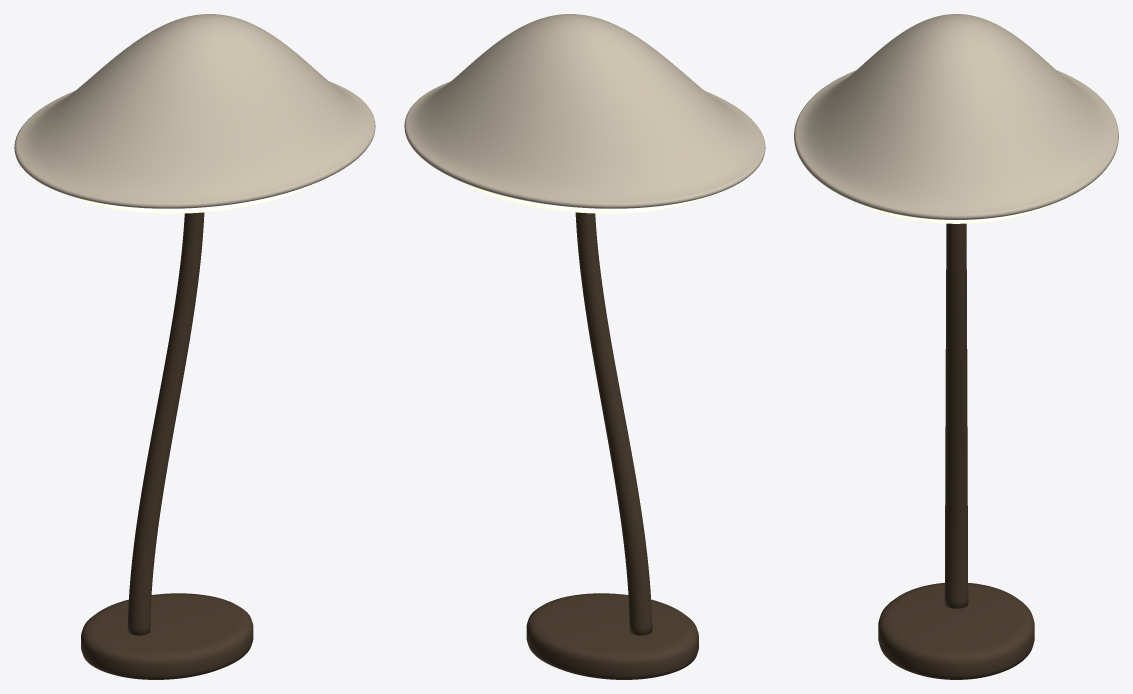
3 renders of one model, left to right at view 1: azimuth 30°, elevation 25°; view 2: azimuth 150°, elevation 25°; view 3: azimuth 270°, elevation 25°, orthographic. The views are drawn at different scales.
Parts seen in each view (by area): view 1: 01 Shade - closed mineral shell, 03 Base - rounded bronze plinth, 04 Stem - tapered S curve, 02 Diffuser - inset opal annulus; view 2: 01 Shade - closed mineral shell, 03 Base - rounded bronze plinth, 04 Stem - tapered S curve, 02 Diffuser - inset opal annulus; view 3: 01 Shade - closed mineral shell, 03 Base - rounded bronze plinth, 04 Stem - tapered S curve, 02 Diffuser - inset opal annulus.
Boxes of the visible parts, <box> form: 01 Shade - closed mineral shell: <box>14,14,375,208</box>; 03 Base - rounded bronze plinth: <box>81,593,253,679</box>; 04 Stem - tapered S curve: <box>127,212,204,635</box>; 02 Diffuser - inset opal annulus: <box>73,182,317,213</box>; 01 Shade - closed mineral shell: <box>404,14,765,208</box>; 03 Base - rounded bronze plinth: <box>526,593,698,679</box>; 04 Stem - tapered S curve: <box>575,212,652,635</box>; 02 Diffuser - inset opal annulus: <box>462,182,706,213</box>; 01 Shade - closed mineral shell: <box>794,14,1118,219</box>; 03 Base - rounded bronze plinth: <box>878,583,1034,679</box>; 04 Stem - tapered S curve: <box>944,223,968,608</box>; 02 Diffuser - inset opal annulus: <box>859,203,1053,223</box>.
Bounding box in the file's own units: 0.3465 × 0.631 × 0.2905.
